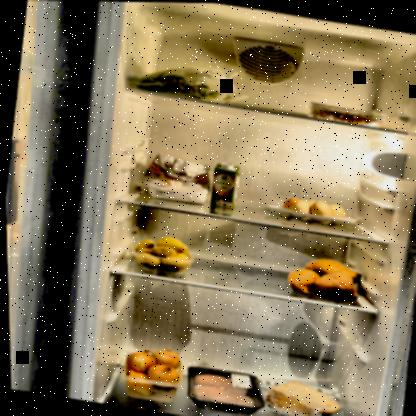chicken: (177, 361, 268, 415)
eggs: (280, 194, 349, 224)
green_beans: (128, 62, 238, 105)
heavy_cream: (206, 159, 241, 210)
onion: (114, 342, 184, 405)
potato: (127, 229, 196, 274)
shrimp: (310, 104, 384, 127)
sweet_potato: (281, 249, 371, 306)
